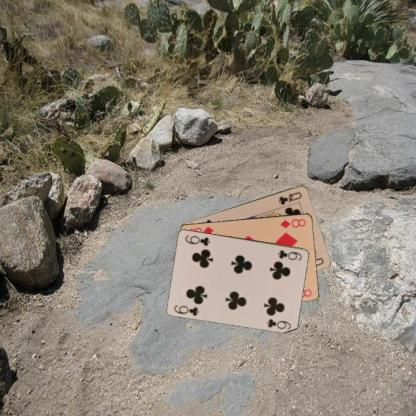6c: (172, 302, 200, 317), (276, 247, 303, 262)
8d: (278, 216, 307, 229)
Qc: (276, 189, 303, 206)
